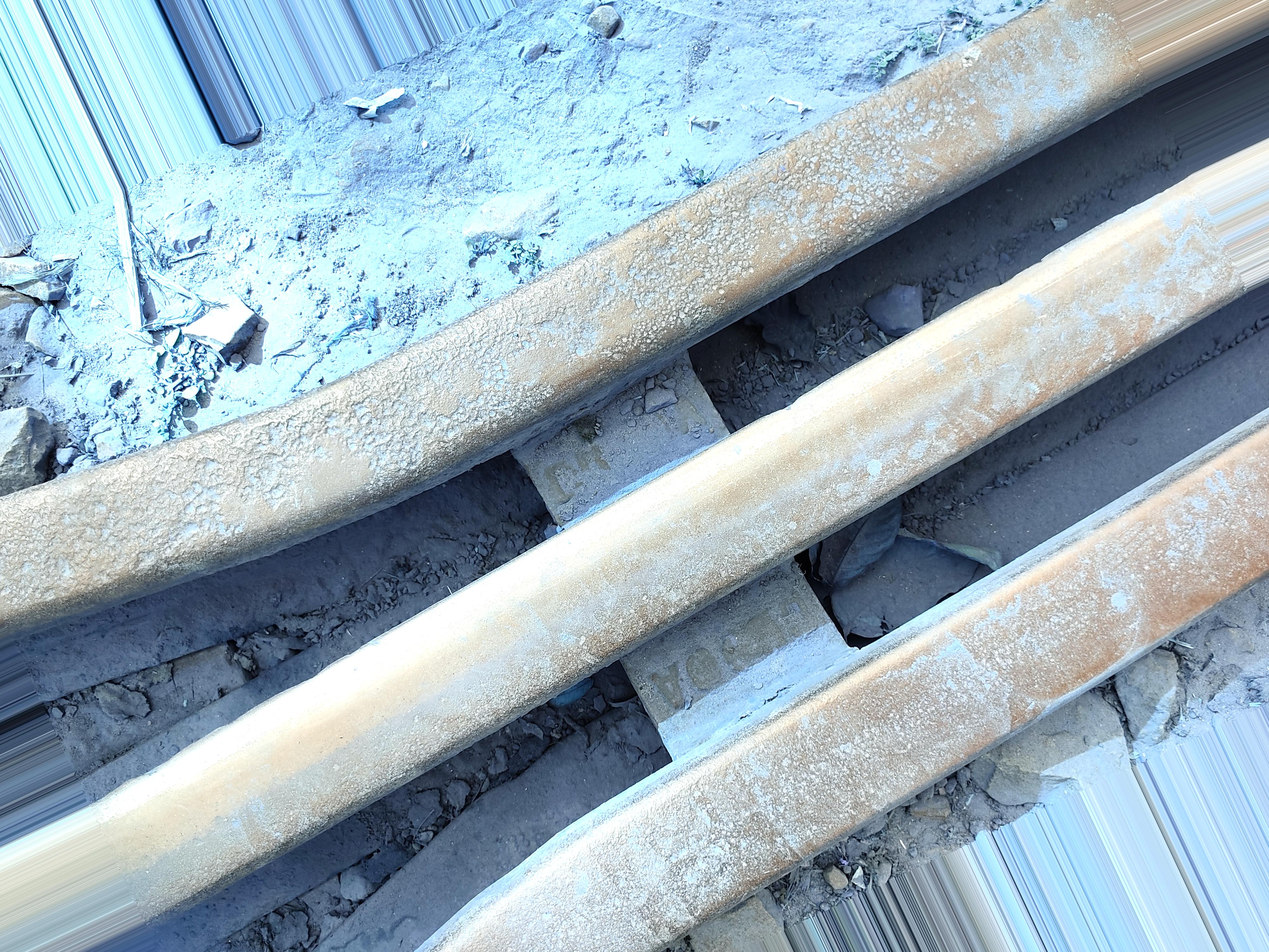tracks_fault: (49, 300, 791, 930)
